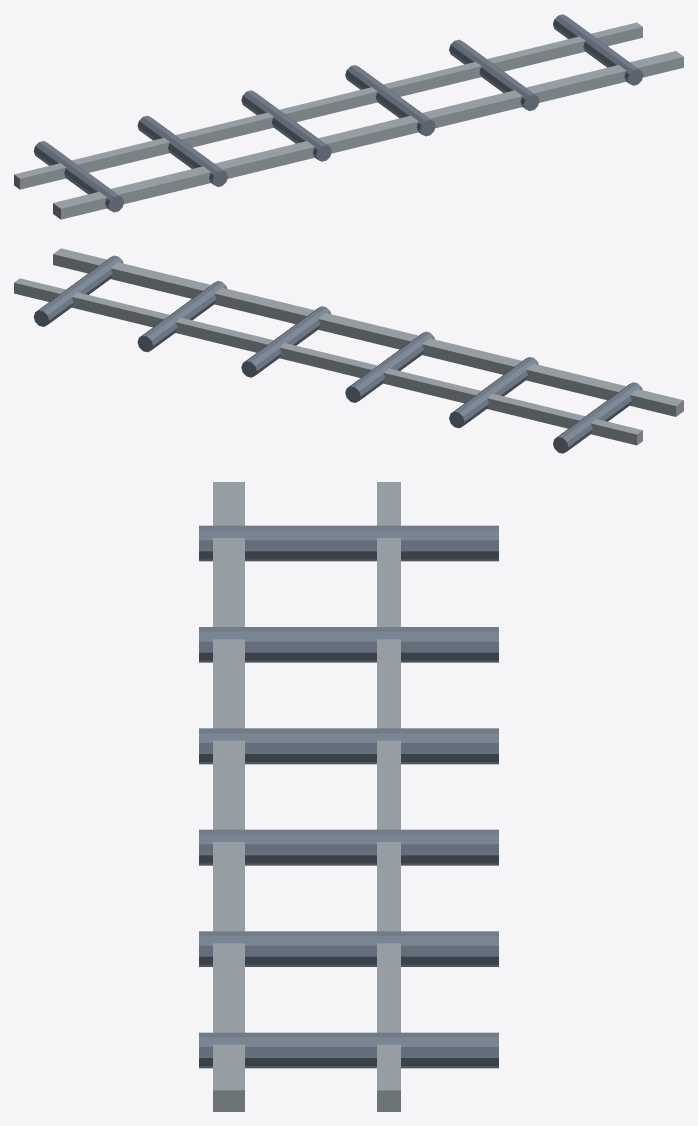
The model's file is bicycle_rack.glb.
The picture shows the model from 3 angles, top to bottom: view 1: azimuth 30°, elevation 25°; view 2: azimuth 150°, elevation 25°; view 3: azimuth 270°, elevation 25°; orthographic projection. The views are drawn at different scales.
Parts seen in each view (by area): view 1: metal2, metal; view 2: metal2, metal; view 3: metal, metal2.
Part boxes in pixels (x1,y1,x2,y2): metal2: [14, 22, 683, 219]; metal: [33, 14, 643, 212]; metal2: [14, 248, 683, 445]; metal: [33, 255, 642, 453]; metal: [199, 525, 498, 1068]; metal2: [213, 482, 400, 1111].
Size of the model in its own units: 7.2 by 0.1712 by 1.5.
